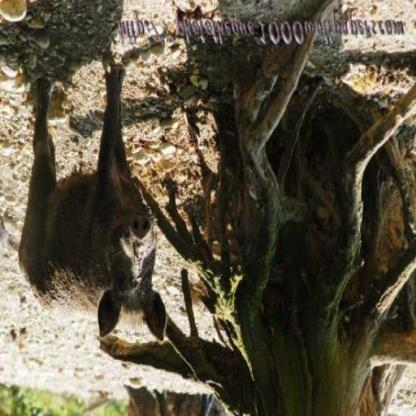boar: (13, 35, 172, 366)
